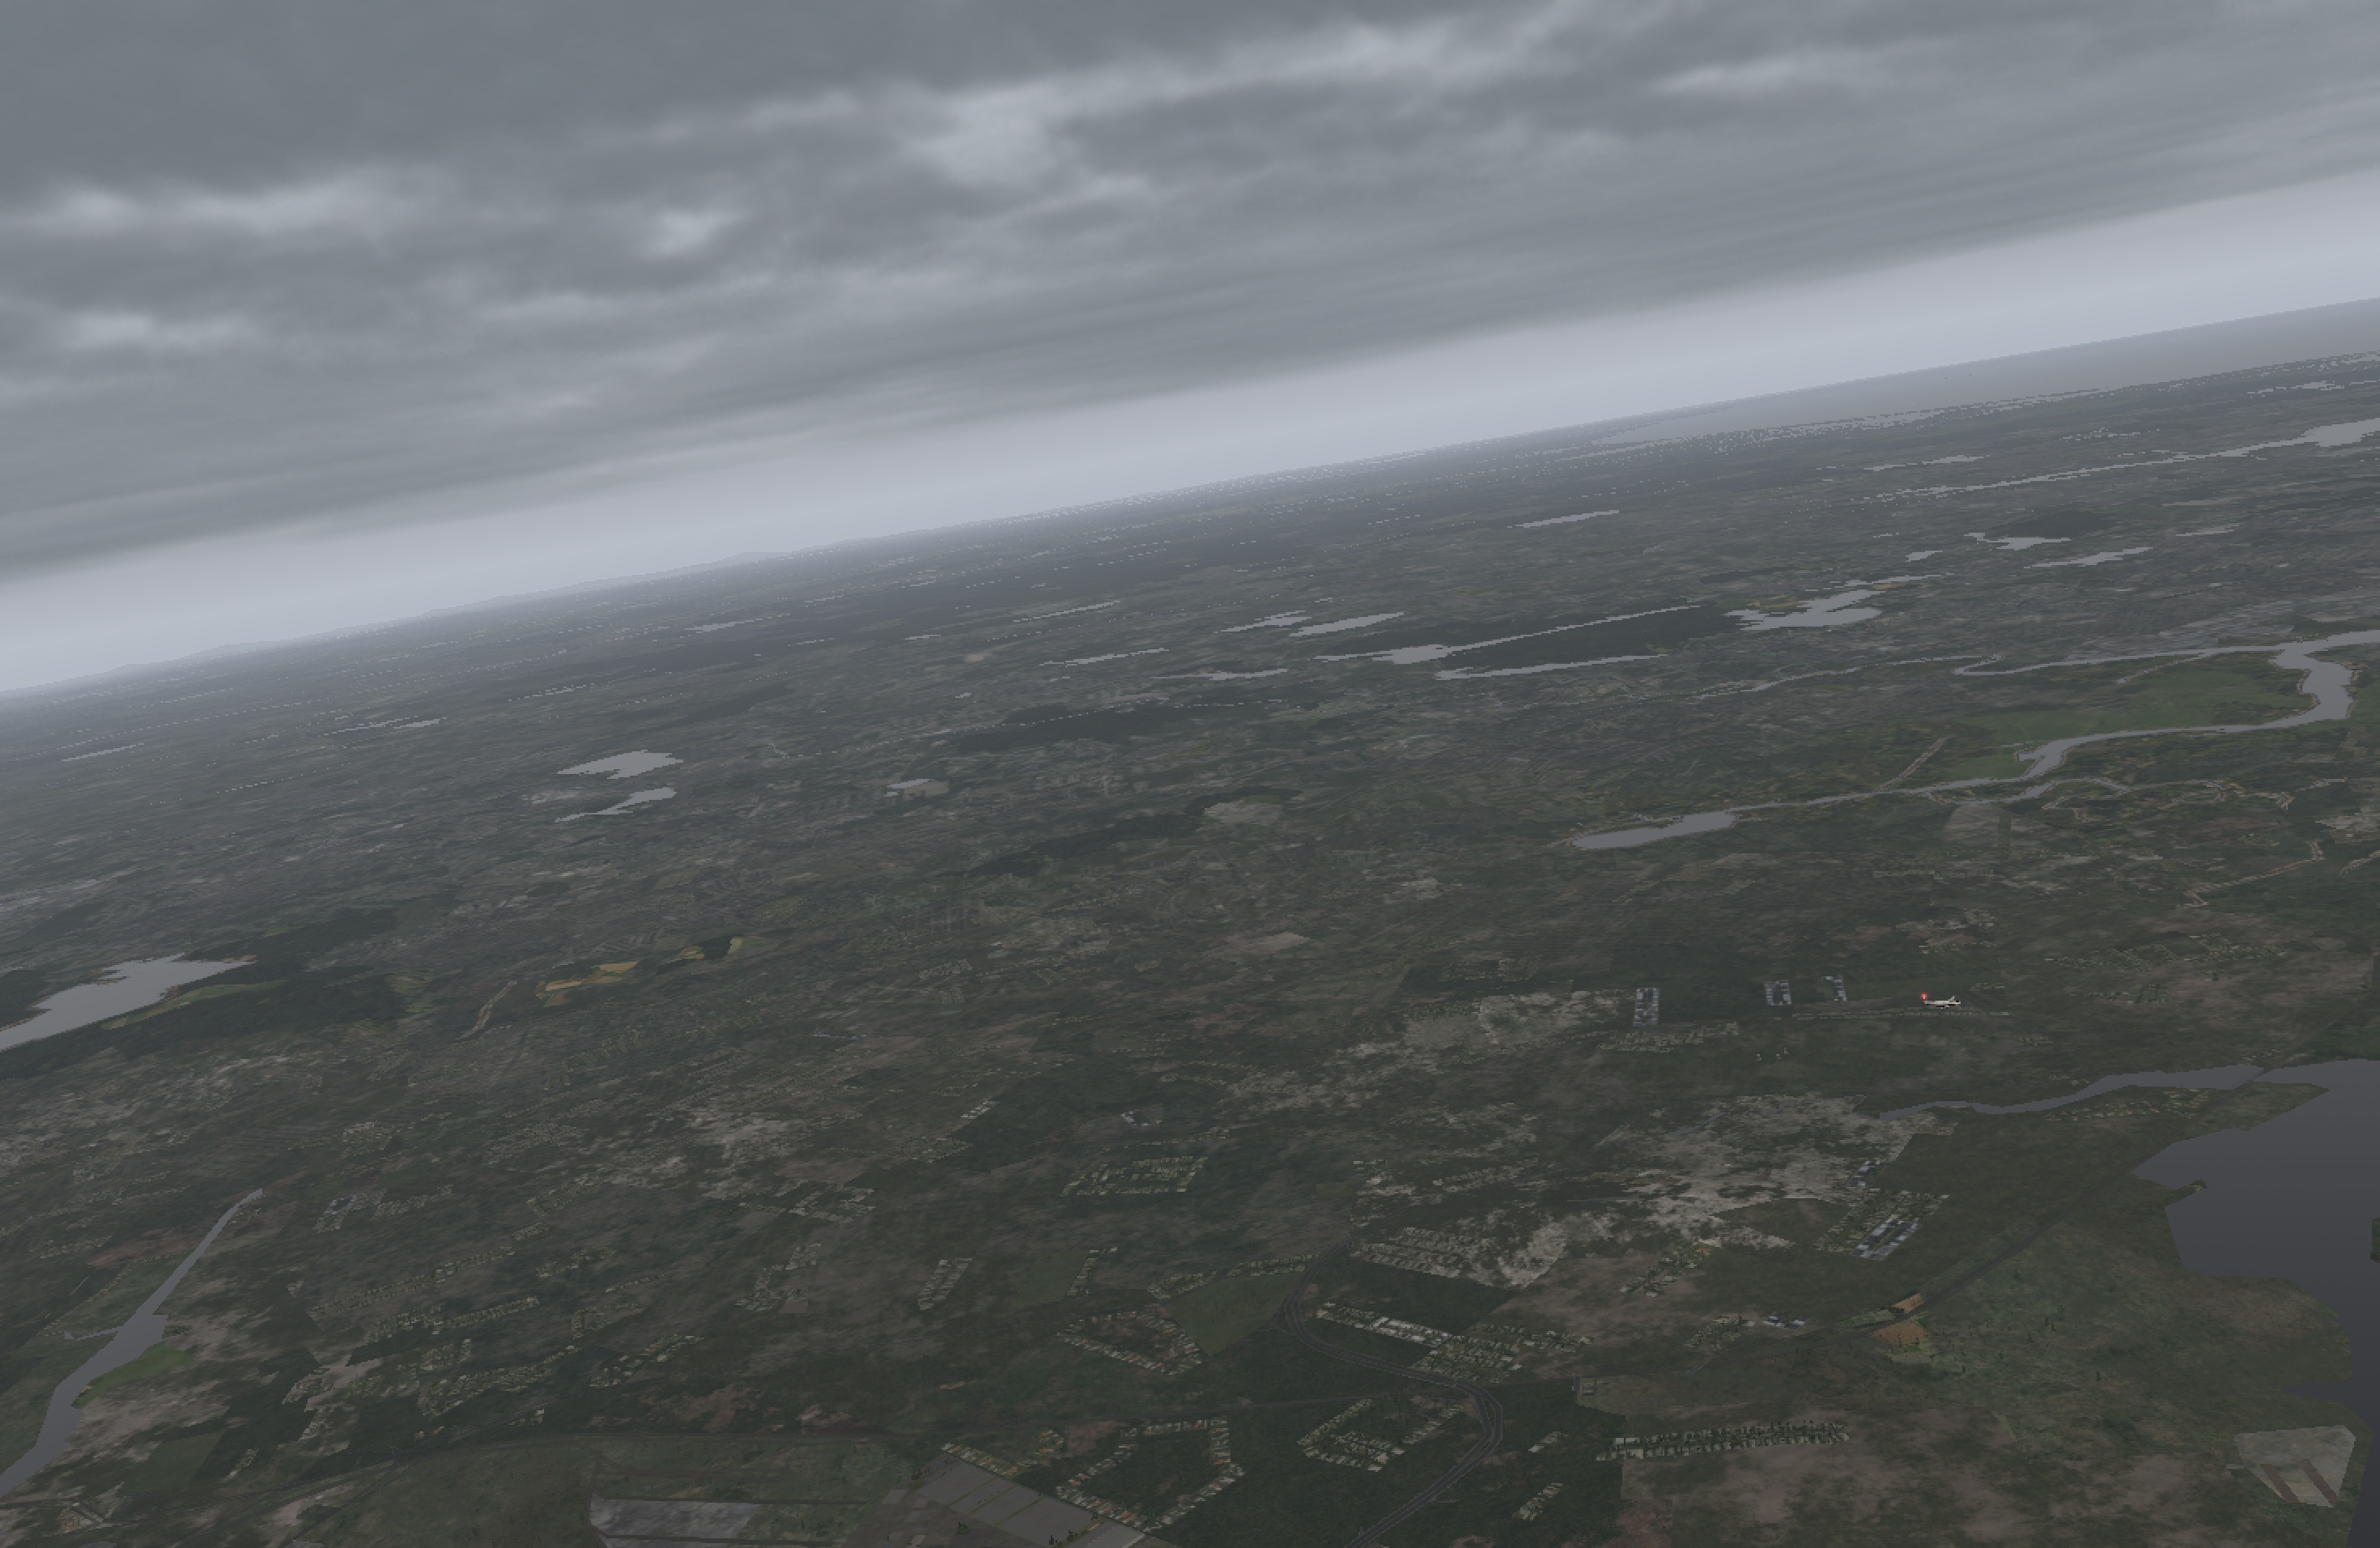aircraft: (1924, 996, 1974, 1015)
